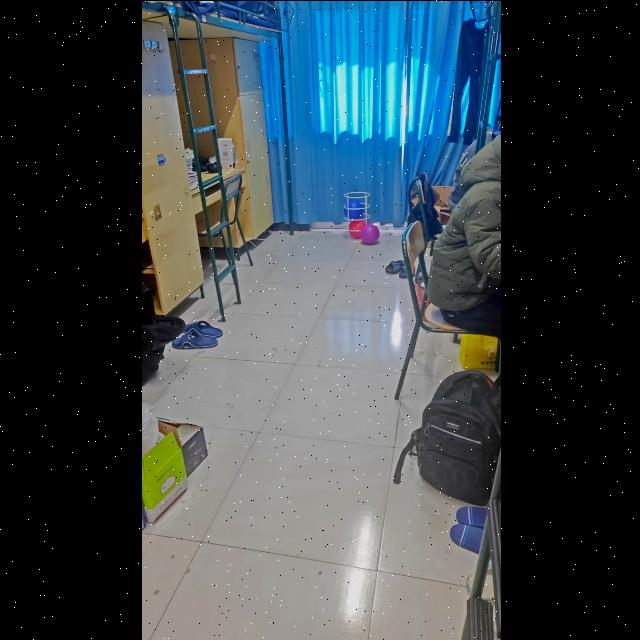B: (343, 199, 363, 219)
P: (359, 223, 378, 244)
R: (347, 219, 365, 237)
S: (342, 190, 369, 239)
